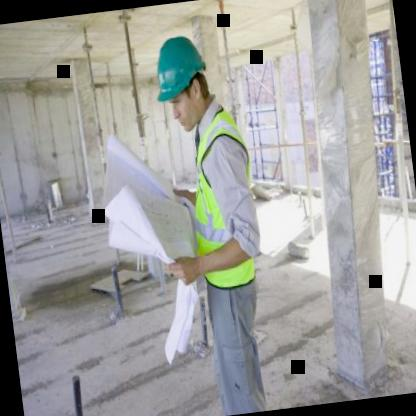helmet: (144, 20, 220, 140)
